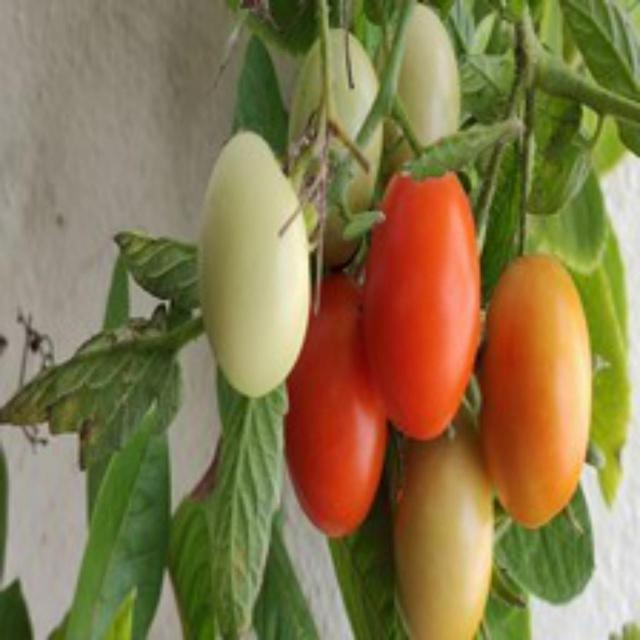tomato: (484, 240, 604, 544), (370, 158, 473, 460)
